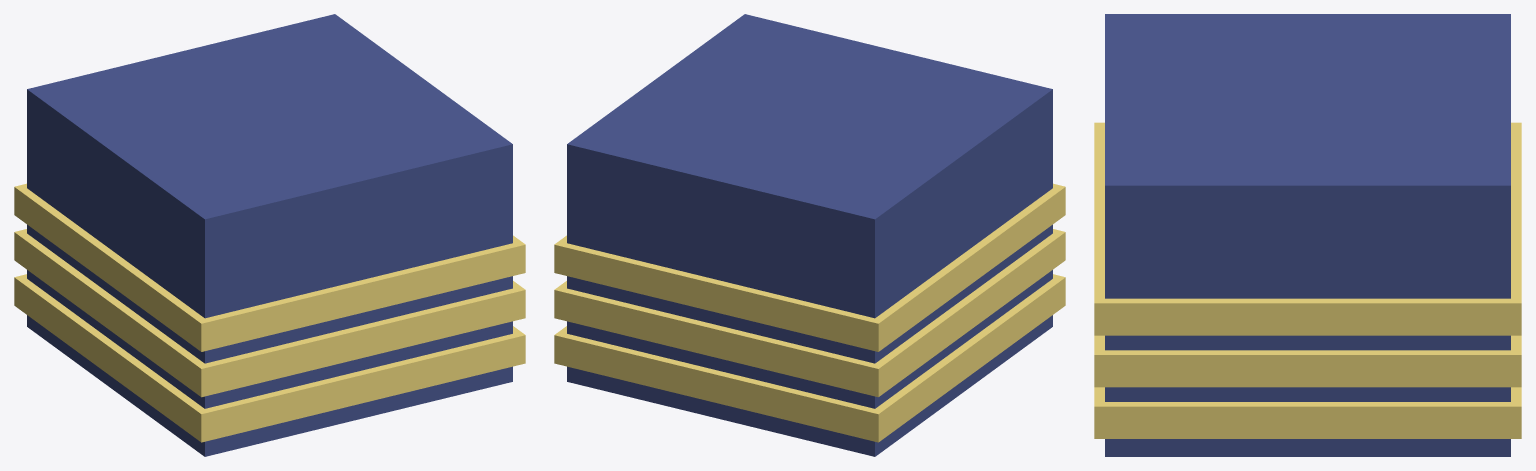
File: piloto_comercial_manga_inf.glb
3 renders of one model, left to right at view 1: azimuth 30°, elevation 25°; view 2: azimuth 150°, elevation 25°; view 3: azimuth 270°, elevation 25°, orthographic. The views are drawn at different scales.
Visible parts, largest first — view 1: piloto_comercial_manga_inf; view 2: piloto_comercial_manga_inf; view 3: piloto_comercial_manga_inf.
Part boxes in pixels (x1=…): piloto_comercial_manga_inf: x1=14, y1=14, x2=525, y2=456; piloto_comercial_manga_inf: x1=554, y1=14, x2=1065, y2=456; piloto_comercial_manga_inf: x1=1094, y1=14, x2=1521, y2=456.
Size of the model in its own units: 0.3 by 0.21 by 0.3.
